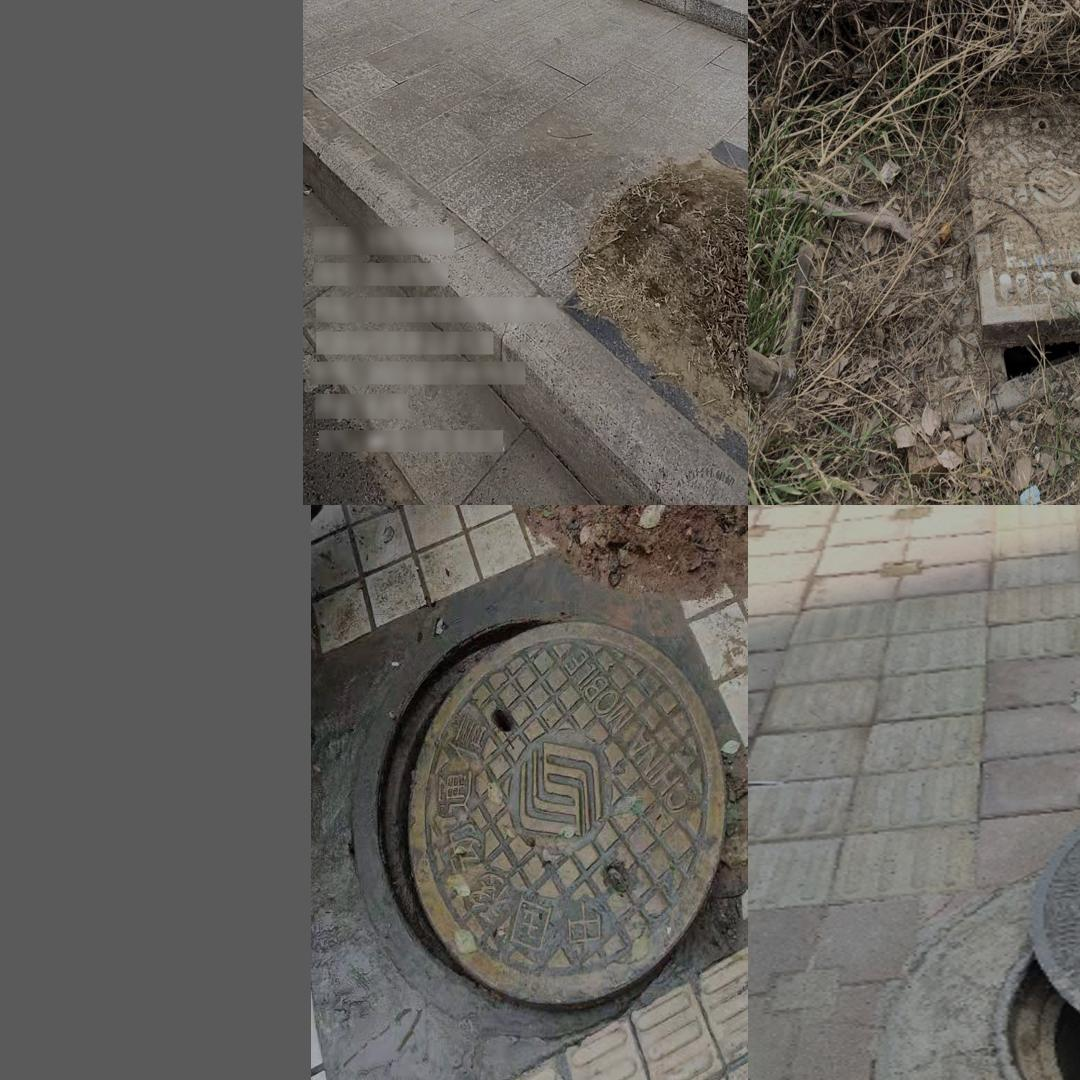uncovered: (351, 604, 723, 1039), (901, 54, 1080, 412), (990, 761, 1080, 1080)
